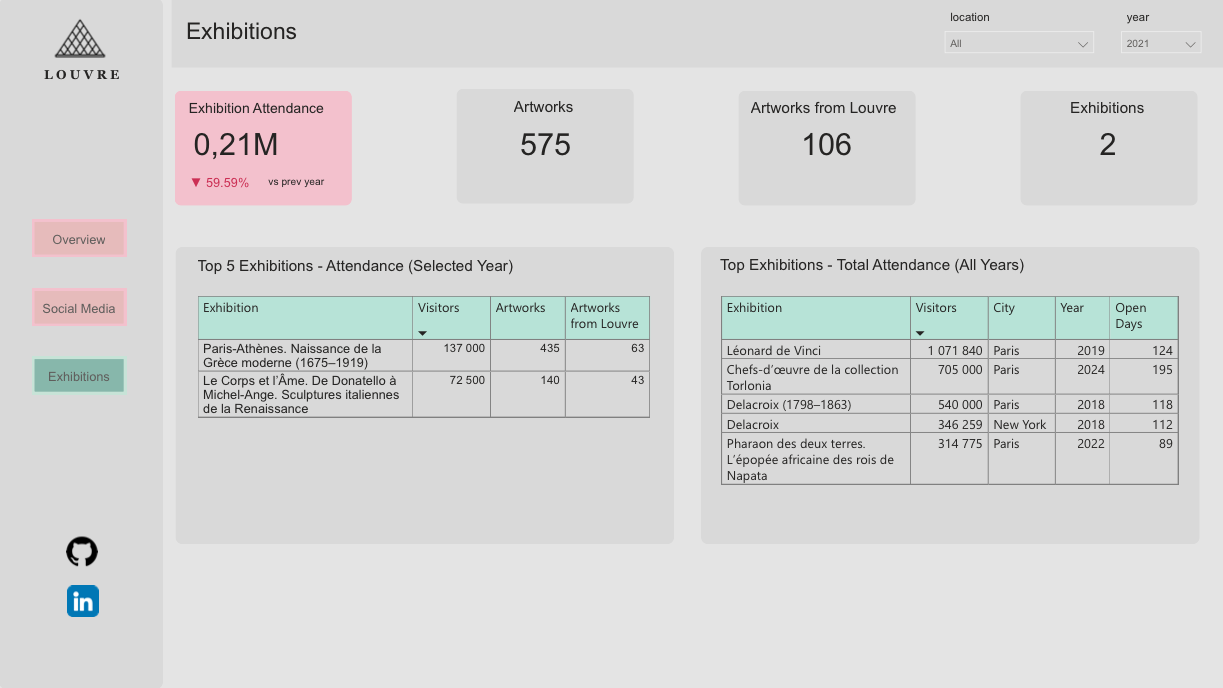

The page's visual inventory and layout, read from the dashboard file:
{"tool":"powerbi","page":{"name":"Exhibition","canvas":[1280,720],"ordinal":2},"visuals":[{"type":"shape","box":[731.8,259,519.8,309.7],"z":0},{"type":"shape","box":[183.8,259,519.8,309.7],"z":1000},{"type":"pivotTable","fields":{"Rows":["exhibition.exhibition_name"],"Values":["exhibition_visitors.Value Numeric exhibition","exhibition_visitors.Value artwork","exhibition_visitors.Value artwork Louvre"]},"box":[202,305,489,230],"z":2000},{"type":"tableEx","fields":{"Values":["exhibition.exhibition_name","exhibition_visitors.Value Numeric exhibition","exhibition.Museum City","exhibition.Year Number","exhibition.Exhibition Open Days"]},"box":[747.2,305,489.1,230],"z":3000},{"type":"shape","box":[0,0,171,720],"z":4000},{"type":"actionButton","box":[33.5,302.4,99.6,39.8],"z":5000},{"type":"actionButton","box":[33.5,373,99.6,39.8],"z":6000},{"type":"actionButton","box":[33.5,229.9,99.6,39.8],"z":7000},{"type":"image","box":[57.1,10.9,55.2,61.6],"z":8000},{"type":"textbox","box":[42,64,102,37],"z":9000},{"type":"textbox","box":[180,0,1100,72],"z":10000},{"type":"slicer","fields":{"Values":["location_type.location_type_name"]},"box":[976,24,176,41],"z":11000},{"type":"slicer","fields":{"Values":["year.year"]},"box":[1160,24,104,40],"z":12000},{"type":"textbox","box":[1168,0,88,32],"z":13000},{"type":"textbox","box":[984,0,160,32],"z":14000},{"type":"shape","box":[183,96,185,120],"z":15000},{"type":"card","fields":{"Values":["exhibition_visitors.Value Numeric exhibition"]},"box":[179.3,119,136.8,63.4],"z":16000},{"type":"textbox","box":[190,96,160.3,39.8],"z":17000},{"type":"card","fields":{"Values":["exhibition_visitors.Visitors ex vs Prev Label"]},"box":[182.1,173.1,96,40],"z":18000},{"type":"textbox","box":[276.1,173.1,80,32],"z":19000},{"type":"shape","box":[771,96,185,120],"z":20000},{"type":"card","fields":{"Values":["exhibition_visitors.Value artwork Louvre"]},"box":[811,119,104.2,63.4],"z":21000},{"type":"textbox","box":[776,96,180.2,39.8],"z":22000},{"type":"shape","box":[1065,96,185,120],"z":23000},{"type":"card","fields":{"Values":["exhibition_visitors.Exhibitions Count"]},"box":[1092,119,128.6,63.4],"z":24000},{"type":"textbox","box":[1109,96,101.4,39.8],"z":25000},{"type":"shape","box":[477,94.2,185,120],"z":27000},{"type":"card","fields":{"Values":["exhibition_visitors.Value artwork"]},"box":[506,119,127.7,63.4],"z":28000},{"type":"textbox","box":[529,95.1,116.8,39.8],"z":29000},{"type":"textbox","box":[202,259,406.6,39.8],"z":30000},{"type":"textbox","box":[747.2,259,384.9,36.2],"z":31000},{"type":"image","box":[65,559.7,42.6,33.5],"z":31001},{"type":"image","box":[62,612,49.8,33],"z":31002}]}

Visuals, with their boxes in screenshot pixels (x1, y1, x2, y2), scaled from the page's 1280x720 canvas onto the 1223x688 screenshot:
shape: 699,247,1196,543
shape: 176,247,672,543
pivotTable - exhibition.exhibition_name x exhibition_visitors.Value Numeric exhibition: 193,291,660,511
tableEx - exhibition.exhibition_name x exhibition_visitors.Value Numeric exhibition: 714,291,1181,511
shape: 0,0,163,687
actionButton: 32,289,127,327
actionButton: 32,356,127,394
actionButton: 32,220,127,258
image: 55,10,107,69
textbox: 40,61,138,97
textbox: 172,0,1222,69
slicer - location_type.location_type_name: 933,23,1101,62
slicer - year.year: 1108,23,1208,61
textbox: 1116,0,1200,31
textbox: 940,0,1093,31
shape: 175,92,352,206
card - exhibition_visitors.Value Numeric exhibition: 171,114,302,174
textbox: 182,92,335,130
card - exhibition_visitors.Visitors ex vs Prev Label: 174,165,266,204
textbox: 264,165,340,196
shape: 737,92,913,206
card - exhibition_visitors.Value artwork Louvre: 775,114,874,174
textbox: 741,92,914,130
shape: 1018,92,1194,206
card - exhibition_visitors.Exhibitions Count: 1043,114,1166,174
textbox: 1060,92,1156,130
shape: 456,90,633,205
card - exhibition_visitors.Value artwork: 483,114,605,174
textbox: 505,91,617,129
textbox: 193,247,581,286
textbox: 714,247,1082,282
image: 62,535,103,567
image: 59,585,107,616
